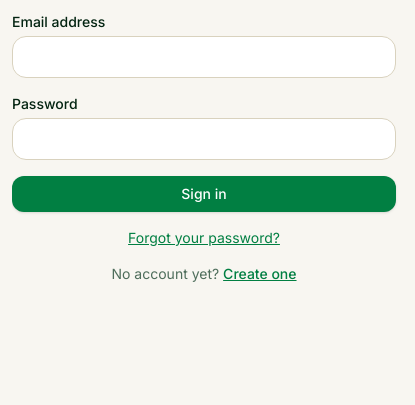
Test: EmailPasswordForm › when it fails › shows the conflict message when the address is taken
The width and height of the screenshot is (415, 405).
Click the button "Create one" at x=260, y=274, box [223, 264, 296, 284]
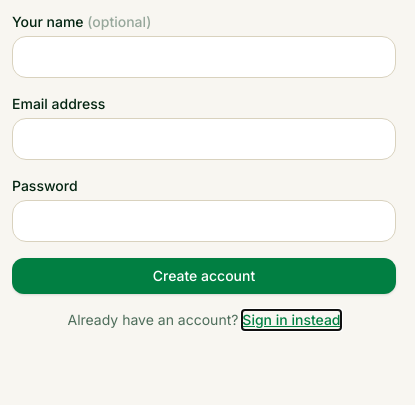
Type "citizen@example.com" into the field labelled "Email address" at x=204, y=139, box [12, 118, 396, 160]
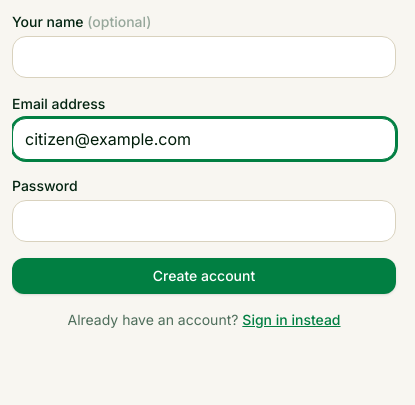
Type "correct horse battery staple" into the password field labelled "Password" at x=204, y=221, box [12, 200, 396, 242]
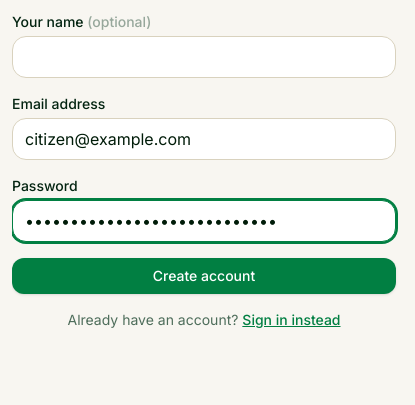
Click the button "Create account" at x=204, y=276, box [12, 258, 396, 294]
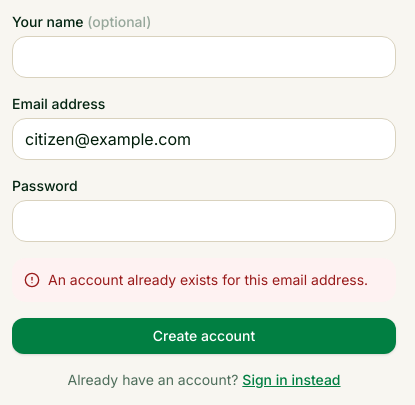
Check: the message shows "already exists", box [48, 271, 368, 288]
